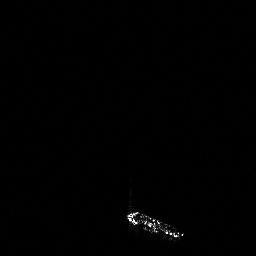ship: (121, 204, 187, 243)
